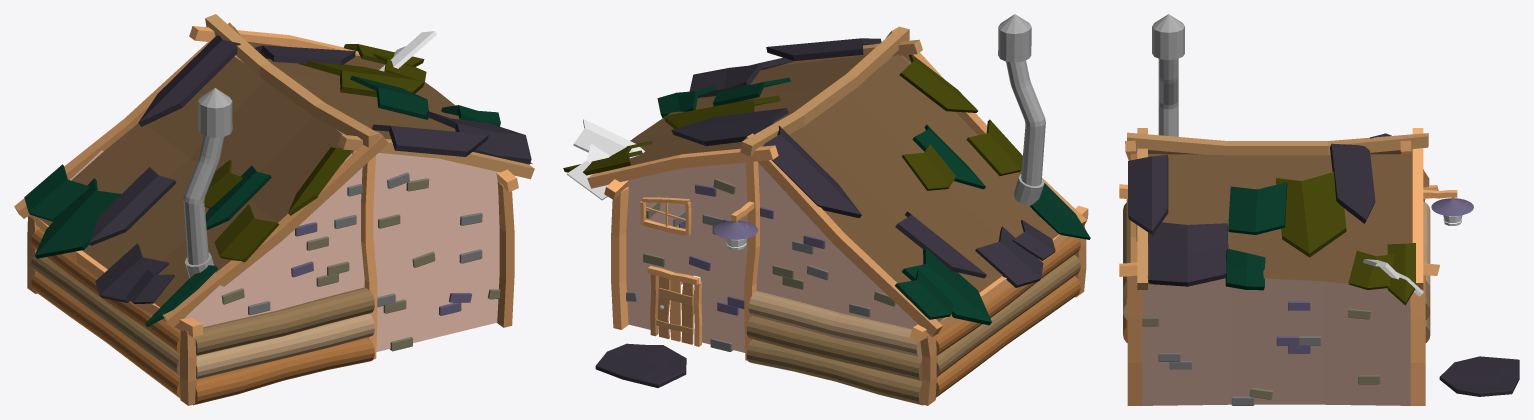
Rendered from WITCH HOUSE 2.fbx.
3 renders of one model, left to right at view 1: azimuth 30°, elevation 25°; view 2: azimuth 150°, elevation 25°; view 3: azimuth 270°, elevation 25°, orthographic. The views are drawn at different scales.
Visible parts, largest first — view 1: Plane.001, Plane.002, Cylinder.005, Plane.003, Cylinder.009, Cylinder.004, Cylinder.003, Cube.013, Cube.006, Cylinder.008, Cylinder.007, Plane.020 (+28 smaller); view 2: Plane.002, Plane, Plane.003, Cylinder.009, Cylinder.002, Cylinder.001, Cylinder, Cube.011, Cube.006, Plane.020, Cylinder.008, Cylinder.007 (+35 smaller); view 3: Plane.004, Plane.003, Plane.009, Cube.006, Plane.011, Cylinder.009, Plane.010, Plane.013, Plane.012, Plane.005, Cube.004, Cube.001 (+9 smaller).
Part boxes in pixels (x1,y1,x2,y2): Plane.001: (186,153,499,351); Plane.002: (36,56,353,307); Cylinder.005: (195,287,374,355); Plane.003: (247,41,532,164); Cylinder.009: (183,88,232,278); Cylinder.004: (196,313,374,379); Cylinder.003: (193,337,374,405); Cube.013: (163,131,388,327); Cube.006: (205,14,379,147); Cylinder.008: (31,273,180,398); Cylinder.007: (31,255,179,375); Plane.020: (138,35,240,126); Plane.002: (789,54,1058,321); Plane: (626,162,917,352); Plane.003: (597,55,866,173); Cylinder.009: (998,14,1045,205); Cylinder.002: (748,291,921,357); Cylinder.001: (746,316,922,380); Cylinder: (746,340,923,405); Cube.011: (744,133,942,336); Cube.006: (740,26,909,156); Plane.020: (763,126,861,218); Cylinder.008: (935,276,1080,397); Cylinder.007: (936,254,1080,376); Plane.004: (1142,278,1410,405); Plane.003: (1147,154,1412,285); Plane.009: (1148,222,1228,286); Cube.006: (1127,132,1428,155); Plane.011: (1276,172,1346,257); Cylinder.009: (1152,14,1184,136); Plane.010: (1128,155,1168,235); Plane.013: (1330,143,1375,223); Plane.012: (1228,182,1287,234); Plane.005: (1439,356,1519,396); Cube.004: (1127,275,1142,405); Cube.001: (1410,275,1425,405).
Bounding box in the file's own units: 1115 × 751 × 1003.
